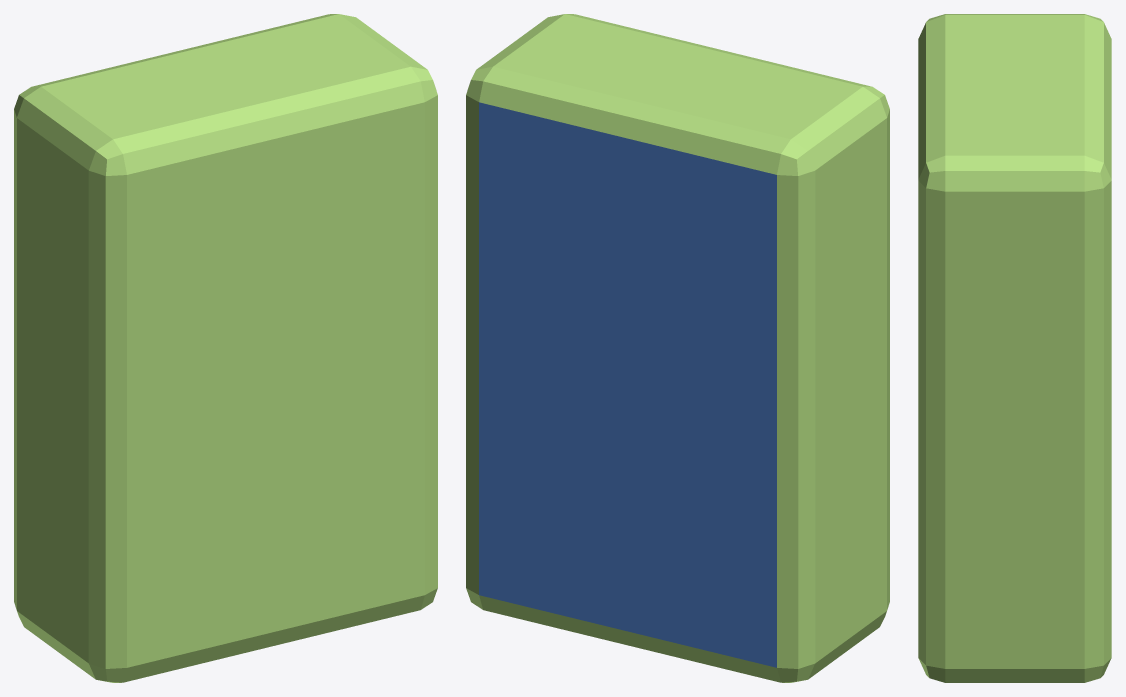
The model's file is game_tile.fbx.
3 views of the same model, side by side, from view 1: azimuth 30°, elevation 25°; view 2: azimuth 150°, elevation 25°; view 3: azimuth 270°, elevation 25° (orthographic). The views are drawn at different scales.
Visible parts, largest first — view 1: Cube; view 2: Cube; view 3: Cube.
Boxes of the visible parts, x1=… form: Cube: x1=14, y1=14, x2=437, y2=682; Cube: x1=466, y1=14, x2=889, y2=682; Cube: x1=918, y1=14, x2=1111, y2=682.
Bounding box in the file's own units: 2 × 3 × 1.
